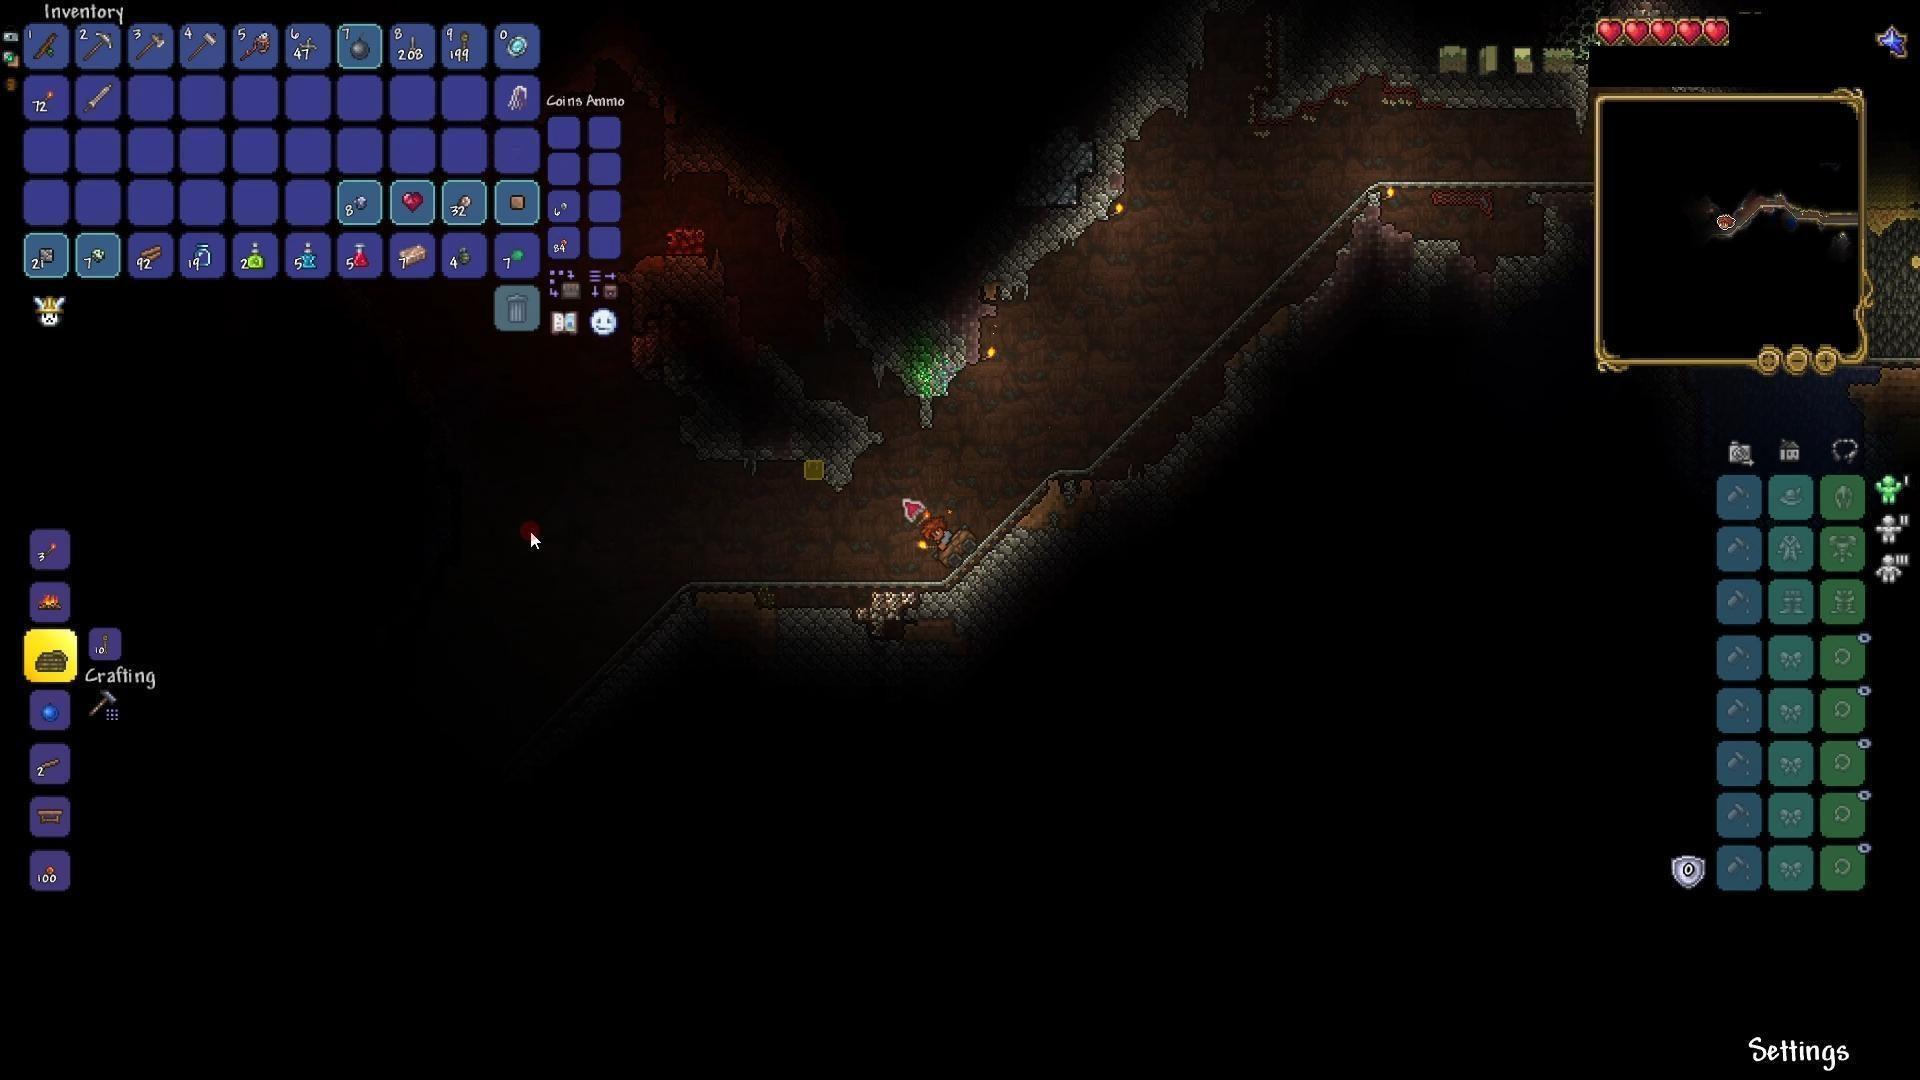heart: (1702, 17, 1733, 51), (1593, 16, 1626, 46), (1676, 15, 1704, 50), (1650, 16, 1676, 49), (1625, 15, 1651, 44)
stone: (670, 372, 884, 500), (1101, 38, 1221, 186), (645, 123, 798, 229), (1247, 30, 1379, 138), (1419, 73, 1598, 140), (880, 309, 985, 411), (1153, 393, 1245, 492), (1491, 198, 1577, 301), (992, 215, 1095, 297), (910, 558, 1040, 615), (622, 603, 690, 695), (775, 599, 851, 679), (1659, 57, 1779, 95), (1403, 227, 1458, 301)
